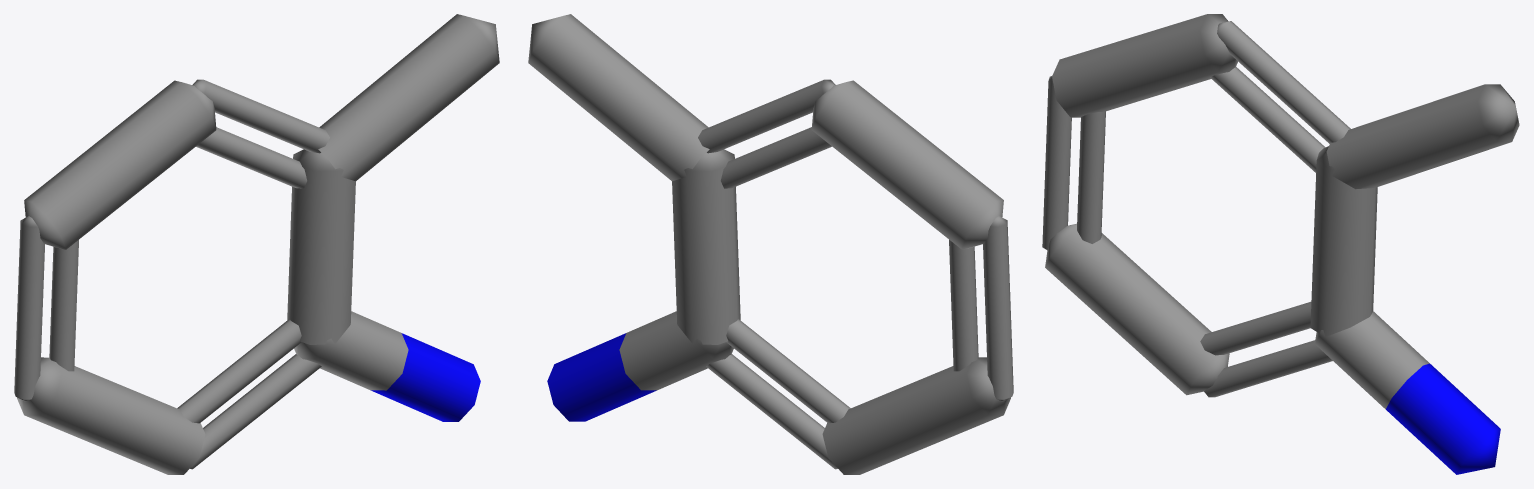
The model's file is otoluidine.glb.
3 views of the same model, side by side, from view 1: azimuth 30°, elevation 25°; view 2: azimuth 150°, elevation 25°; view 3: azimuth 330°, elevation 25° (orthographic).
Parts seen in each view (by area): view 1: node-geom4; view 2: node-geom4; view 3: node-geom4.
Part boxes in pixels (left/top/right/bottom): node-geom4: left=14, top=14, right=499, bottom=474; node-geom4: left=528, top=14, right=1013, bottom=474; node-geom4: left=1042, top=14, right=1519, bottom=474.
Size of the model in its own units: 4.22 by 3.39 by 0.5019.
